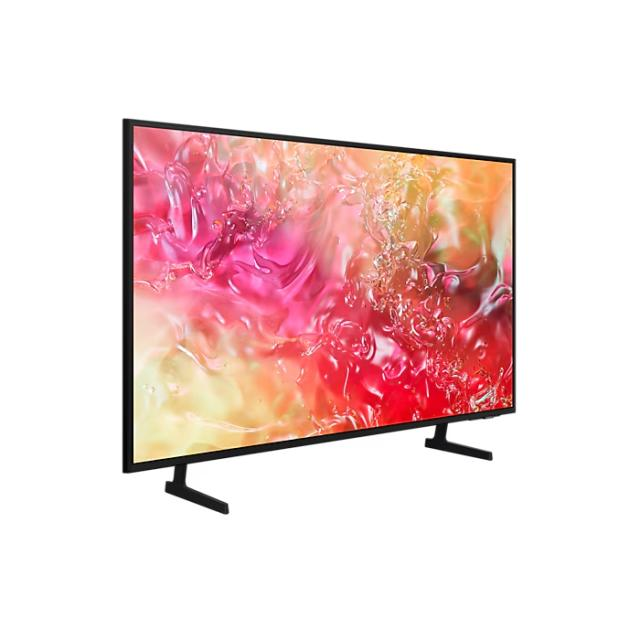electronics: (124, 119, 514, 512)
